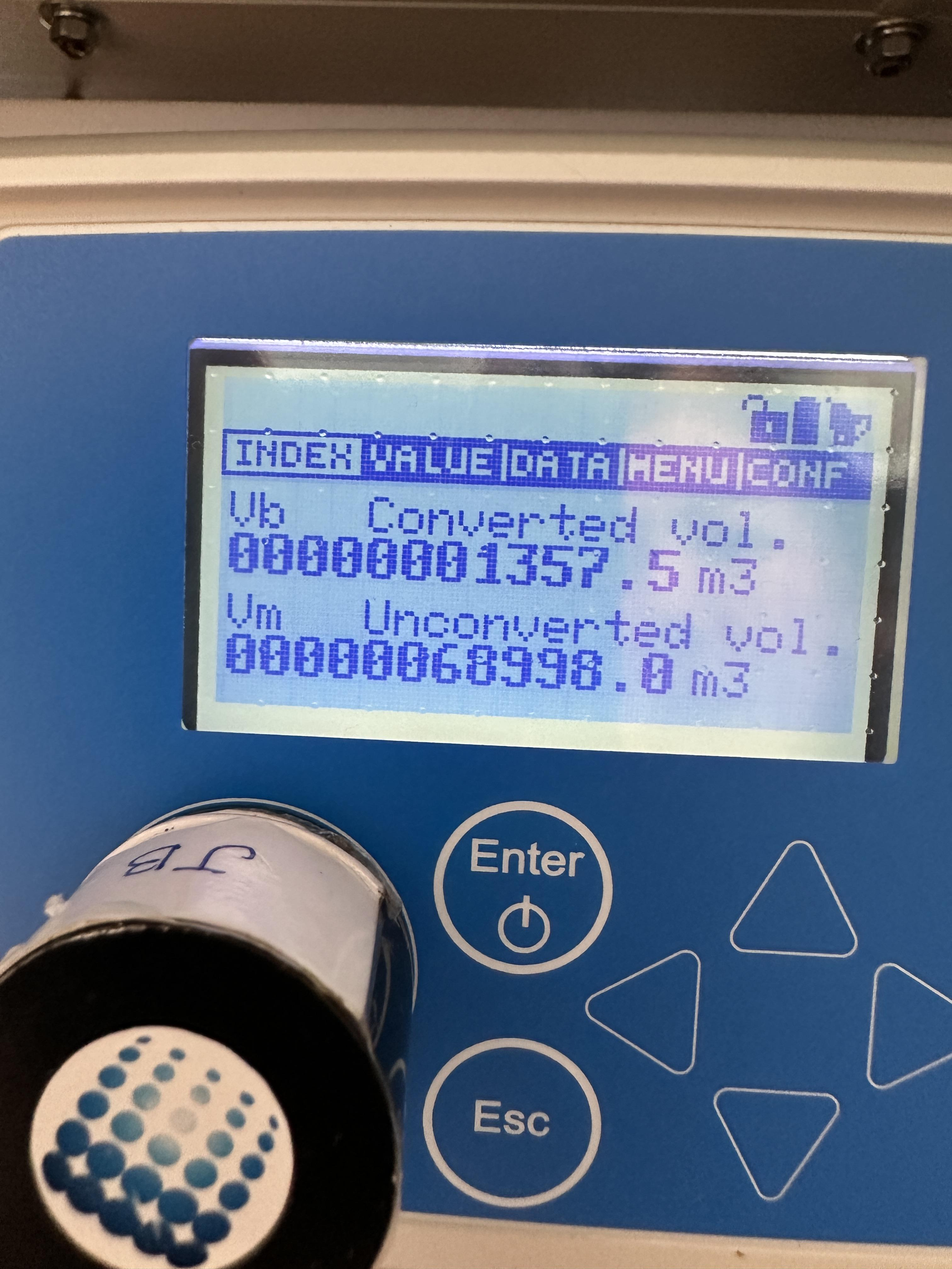digital_screen: (189, 357, 895, 763)
